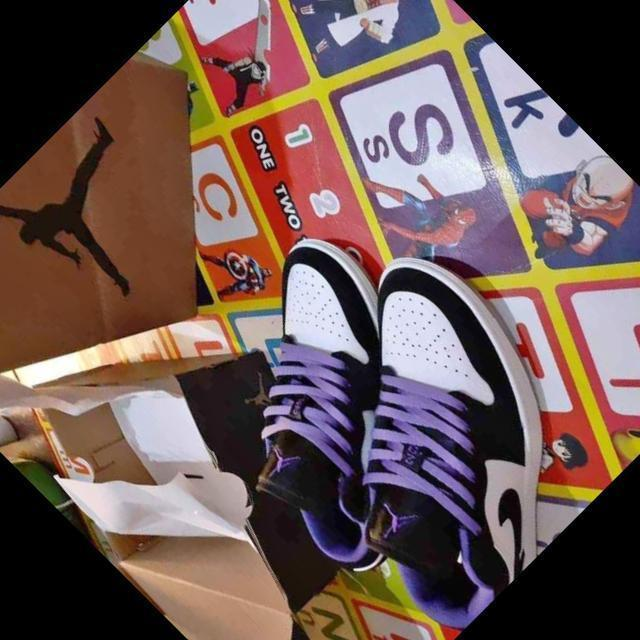nike fake jordan 1: (234, 233, 640, 639), (148, 220, 516, 590)
